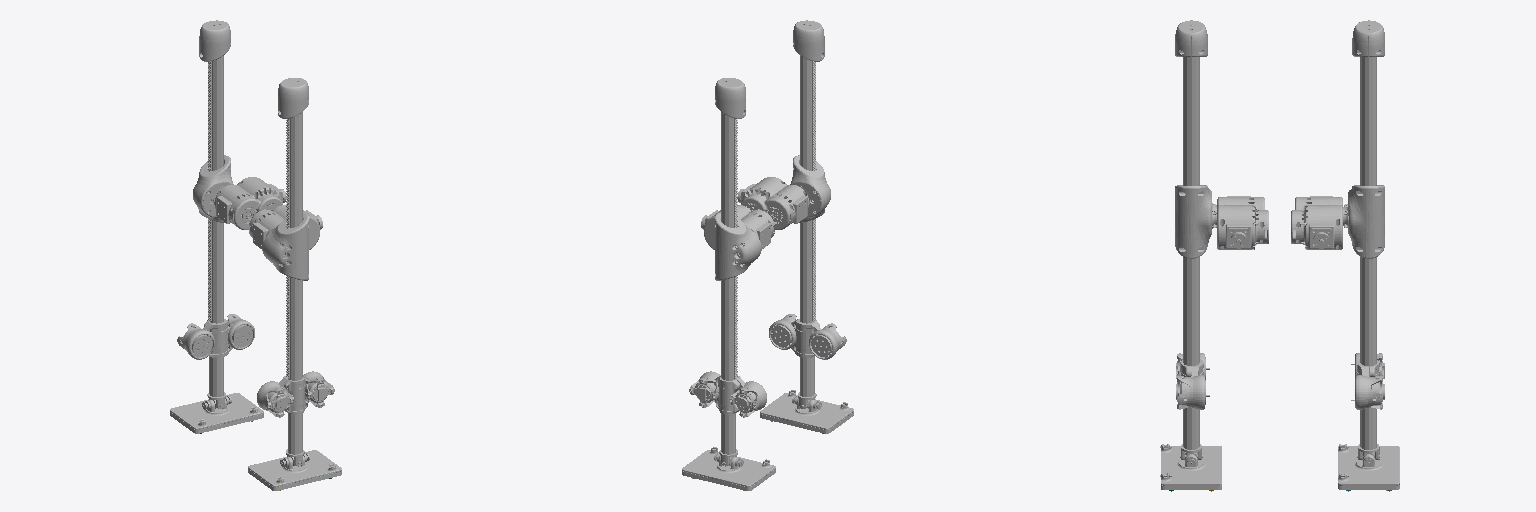
--- Render facts (derived) ---
The picture shows the robot from 3 angles, left to right: view 1: azimuth 30°, elevation 25°; view 2: azimuth 150°, elevation 25°; view 3: azimuth 270°, elevation 25°; orthographic projection.
Model slider_gazebo with 20 links and 19 joints (8 revolute, 2 prismatic, 8 fixed, 1 floating), rooted at world, posed all joints at 0.
Visible links, largest first — view 1: Right_Slide_Foot_Pitch_Link, Left_Slide_Foot_Pitch_Link, Left_Roll_Pitch_Link, Left_Foot, Right_Foot, Right_Pitch_Slide_Link, Left_Pitch_Slide_Link, Right_Roll_Pitch_Link; view 2: Left_Slide_Foot_Pitch_Link, Right_Slide_Foot_Pitch_Link, Right_Roll_Pitch_Link, Left_Foot, Right_Foot, Left_Pitch_Slide_Link, Right_Pitch_Slide_Link, Left_Roll_Pitch_Link; view 3: Right_Slide_Foot_Pitch_Link, Left_Slide_Foot_Pitch_Link, Right_Roll_Pitch_Link, Left_Roll_Pitch_Link, Right_Pitch_Slide_Link, Left_Pitch_Slide_Link, Left_Foot, Right_Foot.
Link boxes in pixels (bbox=[...]): Right_Slide_Foot_Pitch_Link: bbox=[257, 78, 334, 466]; Left_Slide_Foot_Pitch_Link: bbox=[177, 20, 254, 408]; Left_Roll_Pitch_Link: bbox=[214, 177, 286, 229]; Left_Foot: bbox=[170, 393, 263, 433]; Right_Foot: bbox=[248, 450, 341, 490]; Right_Pitch_Slide_Link: bbox=[262, 213, 308, 280]; Left_Pitch_Slide_Link: bbox=[193, 155, 233, 222]; Right_Roll_Pitch_Link: bbox=[249, 205, 322, 249]; Left_Slide_Foot_Pitch_Link: bbox=[689, 78, 766, 466]; Right_Slide_Foot_Pitch_Link: bbox=[769, 20, 846, 408]; Right_Roll_Pitch_Link: bbox=[737, 177, 809, 229]; Left_Foot: bbox=[682, 447, 775, 490]; Right_Foot: bbox=[760, 390, 853, 433]; Left_Pitch_Slide_Link: bbox=[715, 213, 761, 280]; Right_Pitch_Slide_Link: bbox=[790, 155, 830, 222]; Left_Roll_Pitch_Link: bbox=[701, 205, 774, 249]; Right_Slide_Foot_Pitch_Link: bbox=[1175, 20, 1209, 459]; Left_Slide_Foot_Pitch_Link: bbox=[1351, 20, 1384, 459]; Right_Roll_Pitch_Link: bbox=[1217, 196, 1268, 249]; Left_Roll_Pitch_Link: bbox=[1291, 196, 1342, 249]; Right_Pitch_Slide_Link: bbox=[1175, 185, 1216, 258]; Left_Pitch_Slide_Link: bbox=[1343, 185, 1384, 258]; Left_Foot: bbox=[1338, 444, 1399, 489]; Right_Foot: bbox=[1160, 444, 1221, 489].
Bounding box of the posed robot: 0.2587 × 0.5808 × 1.2 m (x, y, z).
10 mesh visuals loaded from 11 distinct referenced files (10 binary STL); not drawn: 1 (reference not matched to a file when rendering).

The robot description file, URDF, robot "slider_gazebo":
<?xml version="1.0" encoding="utf-8"?>
<!-- This URDF was automatically created by SolidWorks to URDF Exporter! Originally created by Stephen Brawner ([email redacted]) 
     Commit Version: 1.5.1-0-g916b5db  Build Version: 1.5.7152.31018
     For more information, please see http://wiki.ros.org/sw_urdf_exporter -->
<robot name="slider_gazebo">
<gazebo>
  <plugin name="gazebo_ros_control" filename="libgazebo_ros_control.so">
    <robotNamespace>time_slider_gazebo</robotNamespace>
    <legacyModeNS>true</legacyModeNS>
  </plugin>
</gazebo>

<gazebo>
  <plugin name='3dplot' filename='libLinkPlot3DPlugin.so'>
      <!-- Update at 50 Hz -->
      <frequency>50</frequency>
      <!-- Upper link plot -->
      <plot>
        <link>time_slider_gazebo::Right_Foot</link>
        <!-- Point 1m in +Z axis in link frame -->
        <pose>0 0 0 0 0 0</pose>
        <material>Gazebo/Red</material>
      </plot>
      <plot>
        <link>time_slider_gazebo::Left_Foot</link>
        <!-- Point 1m in +Z axis in link frame -->
        <pose>0 0 0 0 0 0</pose>
        <material>Gazebo/Red</material>
      </plot>
      <plot>
        <link>time_slider_gazebo::base_link</link>
        <!-- Point 1m in +Z axis in link frame -->
        <pose>0 0 0.68 0 0 0</pose>
        <material>Gazebo/Blue</material>
      </plot>
  </plugin>
</gazebo>

  <link name="world">
  </link>
  <joint name="base_joint" type="floating">
    <origin rpy="0 0 0" xyz="0 0 0"/>
    <parent link="world"/>
    <child link="base_link"/>
  </joint>

  <link
    name="base_link">
    <inertial>
      <origin
        xyz="-0.06588 0.0011664 0.7235"
        rpy="0 0 0" />
      <mass
        value="1.953" />
      <inertia
        ixx="0.34223"
        ixy="-1.452E-10"
        ixz="-1.8823E-04"
        iyy="0.39434"
        iyz="-3.8904E-10"
        izz="0.47413" />
    </inertial>
    <visual>
      <origin
        xyz="0 0 0"
        rpy="0 0 0" />
      <geometry>
        <mesh
          filename="package://time_slider_gazebo/meshes_foot/base_link.STL" />
      </geometry>
      <material
        name="">
        <color
          rgba="0.75294 0.75294 0.75294 1" />
      </material>
    </visual>
    <collision>
      <origin
        xyz="0 0 0"
        rpy="0 0 0" />
      <geometry>
        <mesh
          filename="package://time_slider_gazebo/meshes_foot/base_link.STL" />
      </geometry>
    </collision>
  </link>



  <link
    name="Left_Roll_Pitch_Link">
    <inertial>
      <origin
        xyz="0.10495 -0.020898 0.00014197"
        rpy="0 0 0" />
      <mass
        value="2.3674" />
      <inertia
        ixx="0.016216"
        ixy="-0.0017769"
        ixz="-4.3316E-08"
        iyy="0.029379"
        iyz="1.0776E-06"
        izz="0.036208" />
    </inertial>
    <visual>
      <origin
        xyz="0 0 0"
        rpy="0 0 0" />
      <geometry>
        <mesh
          filename="package://time_slider_gazebo/meshes_foot/Left_Roll_Pitch_Link.STL" />
      </geometry>
      <material
        name="">
        <color
          rgba="0.75294 0.75294 0.75294 1" />
      </material>
    </visual>
    <collision>
      <origin
        xyz="0 0 0"
        rpy="0 0 0" />
      <geometry>
        <mesh
          filename="package://time_slider_gazebo/meshes_foot/Left_Roll_Pitch_Link.STL" />
      </geometry>
    </collision>
  </link>


  <joint
    name="Left_Roll"
    type="revolute">
    <origin
      xyz="-0.0648 0.1 0.69"
      rpy="0 0 0" />
    <limit effort="4000.0" lower="-0.7853" upper="0.7853" velocity="300"/>
    <parent
      link="base_link" />
    <child
      link="Left_Roll_Pitch_Link" />
    <axis
      xyz="1 0 0" />
  </joint>
  <link
    name="Left_Pitch_Slide_Link">
    <inertial>
      <origin
        xyz="0.087199 0.0083996 1.7678E-05"
        rpy="0 0 0" />
      <mass
        value="1.1453" />
      <inertia
        ixx="0.0023497"
        ixy="-4.2122E-05"
        ixz="-5.2647E-08"
        iyy="0.0020378"
        iyz="-6.1071E-07"
        izz="0.0012544" />
    </inertial>
    <visual>
      <origin
        xyz="0 0 0"
        rpy="0 0 0" />
      <geometry>
        <mesh
          filename="package://time_slider_gazebo/meshes_foot/Left_Pitch_Slide_Link.STL" />
      </geometry>
      <material
        name="">
        <color
          rgba="0.75294 0.75294 0.75294 1" />
      </material>
    </visual>
    <collision>
      <origin
        xyz="0 0 0"
        rpy="0 0 0" />
      <geometry>
        <mesh
          filename="package://time_slider_gazebo/meshes_foot/Left_Pitch_Slide_Link.STL" />
      </geometry>
    </collision>
  </link>
  <joint
    name="Left_Pitch"
    type="revolute">
    <origin
      xyz="0.0648 0 0"
      rpy="0 0 1.5708" />
    <limit effort="4000.0" lower="-1.57" upper="1.57" velocity="300"/>
    <parent
      link="Left_Roll_Pitch_Link" />
    <child
      link="Left_Pitch_Slide_Link" />
    <axis
      xyz="1 0 0" />
  </joint>
  <link
    name="Left_Slide_Foot_Pitch_Link">
    <inertial>
      <origin
        xyz="-0.0021556 8.8219E-05 -0.23695"
        rpy="0 0 0" />
      <mass
        value="0.966" />
      <inertia
        ixx="0.01191"
        ixy="-4.5378E-07"
        ixz="-4.6436E-05"
        iyy="0.01208"
        iyz="1.1237E-06"
        izz="0.00099" />
    </inertial>
    <visual>
      <origin
        xyz="0 0 0"
        rpy="0 0 0" />
      <geometry>
        <mesh
          filename="package://time_slider_gazebo/meshes_foot/Left_Slide_Foot_Pitch_Link.STL" />
      </geometry>
      <material
        name="">
        <color
          rgba="0.75294 0.75294 0.75294 1" />
      </material>
    </visual>
    <collision>
      <origin
        xyz="0 0 0"
        rpy="0 0 0" />
      <geometry>
        <mesh
          filename="package://time_slider_gazebo/meshes_foot/Left_Slide_Foot_Pitch_Link.STL" />
      </geometry>
    </collision>
  </link>
  <joint
    name="Left_Slide"
    type="prismatic">
    <origin
      xyz="0.1149 0 0"
      rpy="0 0 -1.5708" />
    <limit effort="4000.0" lower="-0.4" upper="0.4" velocity="300"/>
    <parent
      link="Left_Pitch_Slide_Link" />
    <child
      link="Left_Slide_Foot_Pitch_Link" />
    <axis
      xyz="0 0 1" />
  </joint>
  <link
    name="Left_Foot_Pitch_Foot_Roll_Link">
    <inertial>
      <origin
        xyz="2.2195E-08 1.131E-08 -1.2753E-08"
        rpy="0 0 0" />
      <mass
        value="0.014128" />
      <inertia
        ixx="1.6051E-06"
        ixy="6.2156E-13"
        ixz="2.5352E-13"
        iyy="1.5944E-06"
        iyz="4.249E-13"
        izz="1.5117E-06" />
    </inertial>
    <visual>
      <origin
        xyz="0 0 0"
        rpy="0 0 0" />
      <geometry>
        <mesh
          filename="package://time_slider_gazebo/meshes_foot/Left_Foot_Pitch_Foot_Roll_Link.STL" />
      </geometry>
      <material
        name="">
        <color
          rgba="0.75294 0.75294 0.75294 1" />
      </material>
    </visual>
    <collision>
      <origin
        xyz="0 0 0"
        rpy="0 0 0" />
      <geometry>
        <mesh
          filename="package://time_slider_gazebo/meshes_foot/Left_Foot_Pitch_Foot_Roll_Link.STL" />
      </geometry>
    </collision>
  </link>
  <joint
    name="Left_Foot_Pitch"
    type="revolute">
    <origin
      xyz="0 0 -0.6415"
      rpy="0 0 1.5708" />
    <limit effort="4000.0" lower="-0.7853" upper="0.7853" velocity="300"/>
    <parent
      link="Left_Slide_Foot_Pitch_Link" />
    <child
      link="Left_Foot_Pitch_Foot_Roll_Link" />
    <axis
      xyz="1 0 0" />
  </joint>
  <link
    name="Left_Foot">
    <inertial>
      <origin
        xyz="1.9458E-07 -0.0010335 -0.028465"
        rpy="0 0 0" />
      <mass
        value="0.46537" />
      <inertia
        ixx="0.0065169"
        ixy="5.2336E-09"
        ixz="-5.453E-10"
        iyy="0.013726"
        iyz="2.5072E-06"
        izz="0.020038" />
    </inertial>
    <visual>
      <origin
        xyz="0 0 0"
        rpy="0 0 0" />
      <geometry>
        <mesh
          filename="package://time_slider_gazebo/meshes_foot/Left_Foot.STL" />
      </geometry>
      <material
        name="">
        <color
          rgba="0.75294 0.75294 0.75294 1" />
      </material>
    </visual>
    <collision>
      <origin
        xyz="0 0 0"
        rpy="0 0 0" />
      <geometry>
        <mesh
          filename="package://time_slider_gazebo/meshes_foot/Left_Foot.STL" />
      </geometry>
    </collision>
  </link>
  <joint
    name="Left_Foot_Roll"
    type="revolute">
    <limit effort="4000.0" lower="-0.7853" upper="0.7853" velocity="300"/>
    <origin
      xyz="0 0 0"
      rpy="0 0 -1.5708" />
    <parent
      link="Left_Foot_Pitch_Foot_Roll_Link" />
    <child
      link="Left_Foot" />
    <axis
      xyz="1 0 0" />
  </joint>
  <link
    name="Left_Foot_A">
    <inertial>
      <origin
        xyz="0.0 0.0 0.0"
        rpy="0 0 0" />
      <mass
        value="1E-06" />
      <inertia
        ixx="1E-06"
        ixy="0"
        ixz="0"
        iyy="1E-06"
        iyz="0"
        izz="1E-06" />
    </inertial>
    <visual>
      <origin
        xyz="0.0 0.0 0.0"
        rpy="0 0 0" />
      <geometry>
        <sphere radius="0.01"/>
      </geometry>
    </visual>
    <collision>
      <origin
        xyz="0.0 0.0 0.0"
        rpy="0 0 0" />
      <geometry>
        <sphere radius="0.01"/>
      </geometry>
    </collision>
  </link>
  <joint
    name="Left_A"
    type="fixed">
    <origin
      xyz="0.08225 0.04905 -0.045"
      rpy="0 0 0" />
    <parent
      link="Left_Foot" />
    <child
      link="Left_Foot_A" />
    <axis
      xyz="0 0 0" />
  </joint>

  <link
    name="Left_Foot_B">
    <inertial>
      <origin
        xyz="0.0 0.0 0.0"
        rpy="0 0 0" />
      <mass
        value="1E-06" />
      <inertia
        ixx="1E-06"
        ixy="0"
        ixz="0"
        iyy="1E-06"
        iyz="0"
        izz="1E-06" />
    </inertial>
    <visual>
      <origin
        xyz="0.0 0.0 0.0"
        rpy="0 0 0" />
      <geometry>
        <sphere radius="0.01"/>
      </geometry>
    </visual>
    <collision>
      <origin
        xyz="0.0 0.0 0.0"
        rpy="0 0 0" />
      <geometry>
        <sphere radius="0.01"/>
      </geometry>
    </collision>
  </link>
  <joint
    name="Left_B"
    type="fixed">
    <origin
      xyz="-0.08225 0.04905 -0.045"
      rpy="0 0 0" />
    <parent
      link="Left_Foot" />
    <child
      link="Left_Foot_B" />
    <axis
      xyz="0 0 0" />
  </joint>

    <link
    name="Left_Foot_C">
    <inertial>
      <origin
        xyz="0.0 0.0 0.0"
        rpy="0 0 0" />
      <mass
        value="1E-06" />
      <inertia
        ixx="1E-06"
        ixy="0"
        ixz="0"
        iyy="1E-06"
        iyz="0"
        izz="1E-06" />
    </inertial>
    <visual>
      <origin
        xyz="0.0 0.0 0.0"
        rpy="0 0 0" />
      <geometry>
        <sphere radius="0.01"/>
      </geometry>
    </visual>
    <collision>
      <origin
        xyz="0.0 0.0 0.0"
        rpy="0 0 0" />
      <geometry>
        <sphere radius="0.01"/>
      </geometry>
    </collision>
  </link>
  <joint
    name="Left_C"
    type="fixed">
    <origin
      xyz="0.08225 -0.04905 -0.045"
      rpy="0 0 0" />
    <parent
      link="Left_Foot" />
    <child
      link="Left_Foot_C" />
    <axis
      xyz="0 0 0" />
  </joint>

    <link
    name="Left_Foot_D">
    <inertial>
      <origin
        xyz="0.0 0.0 0.0"
        rpy="0 0 0" />
      <mass
        value="1E-06" />
      <inertia
        ixx="1E-06"
        ixy="0"
        ixz="0"
        iyy="1E-06"
        iyz="0"
        izz="1E-06" />
    </inertial>
    <visual>
      <origin
        xyz="0.0 0.0 0.0"
        rpy="0 0 0" />
      <geometry>
        <sphere radius="0.01"/>
      </geometry>
    </visual>
    <collision>
      <origin
        xyz="0.0 0.0 0.0"
        rpy="0 0 0" />
      <geometry>
        <sphere radius="0.01"/>
      </geometry>
    </collision>
  </link>
  <joint
    name="Left_D"
    type="fixed">
    <origin
      xyz="-0.08225 -0.04905 -0.045"
      rpy="0 0 0" />
    <parent
      link="Left_Foot" />
    <child
      link="Left_Foot_D" />
    <axis
      xyz="0 0 0" />
  </joint>

  <link
    name="Right_Roll_Pitch_Link">
    <inertial>
      <origin
        xyz="0.10495 0.020898 -0.00014197"
        rpy="0 0 0" />
      <mass
        value="2.3674" />
      <inertia
        ixx="0.016216"
        ixy="0.0017769"
        ixz="4.3316E-08"
        iyy="0.029379"
        iyz="1.0776E-06"
        izz="0.036208" />
    </inertial>
    <visual>
      <origin
        xyz="0 0 0"
        rpy="0 0 0" />
      <geometry>
        <mesh
          filename="package://time_slider_gazebo/meshes_foot/Right_Roll_Pitch_Link.STL" />
      </geometry>
      <material
        name="">
        <color
          rgba="0.75294 0.75294 0.75294 1" />
      </material>
    </visual>
    <collision>
      <origin
        xyz="0 0 0"
        rpy="0 0 0" />
      <geometry>
        <mesh
          filename="package://time_slider_gazebo/meshes_foot/Right_Roll_Pitch_Link.STL" />
      </geometry>
    </collision>
  </link>
  <joint
    name="Right_Roll"
    type="revolute">
    <origin
      xyz="-0.0648 -0.1 0.69"
      rpy="0 0 0" />
    <limit effort="4000.0" lower="-0.7853" upper="0.7853" velocity="300"/>
    <parent
      link="base_link" />
    <child
      link="Right_Roll_Pitch_Link" />
    <axis
      xyz="1 0 0" />
  </joint>
  <link
    name="Right_Pitch_Slide_Link">
    <inertial>
      <origin
        xyz="0.087199 -0.0083996 -1.7678E-05"
        rpy="0 0 0" />
      <mass
        value="1.1453" />
      <inertia
        ixx="0.0023497"
        ixy="-4.2122E-05"
        ixz="-5.2647E-08"
        iyy="0.0020378"
        iyz="-6.1071E-07"
        izz="0.0012544" />
    </inertial>
    <visual>
      <origin
        xyz="0 0 0"
        rpy="0 0 0" />
      <geometry>
        <mesh
          filename="package://time_slider_gazebo/meshes_foot/Right_Pitch_Slide_Link.STL" />
      </geometry>
      <material
        name="">
        <color
          rgba="0.75294 0.75294 0.75294 1" />
      </material>
    </visual>
    <collision>
      <origin
        xyz="0 0 0"
        rpy="0 0 0" />
      <geometry>
        <mesh
          filename="package://time_slider_gazebo/meshes_foot/Right_Pitch_Slide_Link.STL" />
      </geometry>
    </collision>
  </link>
  <joint
    name="Right_Pitch"
    type="revolute">
    <origin
      xyz="0.0648 0 0"
      rpy="0 0 -1.5708" />
    <limit effort="4000.0" lower="-1.57" upper="1.57" velocity="300"/>
    <parent
      link="Right_Roll_Pitch_Link" />
    <child
      link="Right_Pitch_Slide_Link" />
    <axis
      xyz="-1 0 0" />
  </joint>
  <link
    name="Right_Slide_Foot_Pitch_Link">
    <inertial>
      <origin
        xyz="-0.0020391 -8.6739E-05 -0.23695"
        rpy="0 0 0" />
      <mass
        value="0.966" />
      <inertia
        ixx="0.01191"
        ixy="-4.5378E-07"
        ixz="-4.6436E-05"
        iyy="0.01204"
        iyz="1.1237E-06"
        izz="0.00099" />
    </inertial>
    <visual>
      <origin
        xyz="0 0 0"
        rpy="0 0 0" />
      <geometry>
        <mesh
          filename="package://time_slider_gazebo/meshes_foot/Right_Slide_Foot_Pitch_Link.STL" />
      </geometry>
      <material
        name="">
        <color
          rgba="0.75294 0.75294 0.75294 1" />
      </material>
    </visual>
    <collision>
      <origin
        xyz="0 0 0"
        rpy="0 0 0" />
      <geometry>
        <mesh
          filename="package://time_slider_gazebo/meshes_foot/Right_Slide_Foot_Pitch_Link.STL" />
      </geometry>
    </collision>
  </link>
  <joint
    name="Right_Slide"
    type="prismatic">
    <origin
      xyz="0.1149 0 0"
      rpy="0 0 1.5708" />
    <limit effort="4000.0" lower="-0.4" upper="0.4" velocity="300"/>
    <parent
      link="Right_Pitch_Slide_Link" />
    <child
      link="Right_Slide_Foot_Pitch_Link" />
    <axis
      xyz="0 0 1" />

  </joint>
  <link
    name="Right_Foot_Pitch_Foot_Roll_Link">
    <inertial>
      <origin
        xyz="2.2195E-08 1.131E-08 -1.2753E-08"
        rpy="0 0 0" />
      <mass
        value="0.014128" />
      <inertia
        ixx="1.6051E-06"
        ixy="6.2156E-13"
        ixz="2.5352E-13"
        iyy="1.5944E-06"
        iyz="4.249E-13"
        izz="1.5117E-06" />
    </inertial>
    <visual>
      <origin
        xyz="0 0 0"
        rpy="0 0 0" />
      <geometry>
        <mesh
          filename="package://time_slider_gazebo/meshes_foot/Right_Foot_Pitch_Foot_Roll_Link.STL" />
      </geometry>
      <material
        name="">
        <color
          rgba="0.75294 0.75294 0.75294 1" />
      </material>
    </visual>
    <collision>
      <origin
        xyz="0 0 0"
        rpy="0 0 0" />
      <geometry>
        <mesh
          filename="package://time_slider_gazebo/meshes_foot/Right_Foot_Pitch_Foot_Roll_Link.STL" />
      </geometry>
    </collision>
  </link>
  <joint
    name="Right_Foot_Pitch"
    type="revolute">
    <origin
      xyz="0 0 -0.6415"
      rpy="0 0 1.5708" />
    <limit effort="4000.0" lower="-0.7853" upper="0.7853" velocity="300"/>
    <parent
      link="Right_Slide_Foot_Pitch_Link" />
    <child
      link="Right_Foot_Pitch_Foot_Roll_Link" />
    <axis
      xyz="1 0 0" />
  </joint>
  <link
    name="Right_Foot">
    <inertial>
      <origin
        xyz="1.9458E-07 -0.0010335 -0.028465"
        rpy="0 0 0" />
      <mass
        value="0.46537" />
      <inertia
        ixx="0.0065169"
        ixy="5.2336E-09"
        ixz="-5.453E-10"
        iyy="0.013726"
        iyz="2.5072E-06"
        izz="0.020038" />
    </inertial>
    <visual>
      <origin
        xyz="0 0 0"
        rpy="0 0 0" />
      <geometry>
        <mesh
          filename="package://time_slider_gazebo/meshes_foot/Right_Foot.STL" />
      </geometry>
      <material
        name="">
        <color
          rgba="0.75294 0.75294 0.75294 1" />
      </material>
    </visual>
    <collision>
      <origin
        xyz="0 0 0"
        rpy="0 0 0" />
      <geometry>
        <mesh
          filename="package://time_slider_gazebo/meshes_foot/Right_Foot.STL" />
      </geometry>
    </collision>
  </link>
  <joint
    name="Right_Foot_Roll"
    type="revolute">
    <origin
      xyz="0 0 0"
      rpy="0 0 -1.5708" />
    <limit effort="4000.0" lower="-0.7853" upper="0.7853" velocity="300"/>
    <parent
      link="Right_Foot_Pitch_Foot_Roll_Link" />
    <child
      link="Right_Foot" />
    <axis
      xyz="1 0 0" />
  </joint>

  <link
    name="Right_Foot_A">
    <inertial>
      <origin
        xyz="0.0 0.0 0.0"
        rpy="0 0 0" />
      <mass
        value="1E-06" />
      <inertia
        ixx="1E-06"
        ixy="0"
        ixz="0"
        iyy="1E-06"
        iyz="0"
        izz="1E-06" />
    </inertial>
    <visual>
      <origin
        xyz="0.0 0.0 0.0"
        rpy="0 0 0" />
      <geometry>
        <sphere radius="0.01"/>
      </geometry>
    </visual>
    <collision>
      <origin
        xyz="0.0 0.0 0.0"
        rpy="0 0 0" />
      <geometry>
        <sphere radius="0.01"/>
      </geometry>
    </collision>
  </link>
  <joint
    name="Right_A"
    type="fixed">
    <origin
      xyz="0.08225 0.04905 -0.045"
      rpy="0 0 0" />
    <parent
      link="Right_Foot" />
    <child
      link="Right_Foot_A" />
    <axis
      xyz="0 0 0" />
  </joint>

  <link
    name="Right_Foot_B">
    <inertial>
      <origin
        xyz="0.0 0.0 0.0"
        rpy="0 0 0" />
      <mass
        value="1E-06" />
      <inertia
        ixx="1E-06"
        ixy="0"
        ixz="0"
        iyy="1E-06"
        iyz="0"
        izz="1E-06" />
    </inertial>
    <visual>
      <origin
        xyz="0.0 0.0 0.0"
        rpy="0 0 0" />
      <geometry>
        <sphere radius="0.01"/>
      </geometry>
    </visual>
    <collision>
      <origin
        xyz="0.0 0.0 0.0"
        rpy="0 0 0" />
      <geometry>
        <sphere radius="0.01"/>
      </geometry>
    </collision>
  </link>
  <joint
    name="Right_B"
    type="fixed">
    <origin
      xyz="-0.08225 0.04905 -0.045"
      rpy="0 0 0" />
    <parent
      link="Right_Foot" />
    <child
      link="Right_Foot_B" />
    <axis
      xyz="0 0 0" />
  </joint>

    <link
    name="Right_Foot_C">
    <inertial>
      <origin
        xyz="0.0 0.0 0.0"
        rpy="0 0 0" />
      <mass
        value="1E-06" />
      <inertia
        ixx="1E-06"
        ixy="0"
        ixz="0"
        iyy="1E-06"
        iyz="0"
        izz="1E-06" />
    </inertial>
    <visual>
      <origin
        xyz="0.0 0.0 0.0"
        rpy="0 0 0" />
      <geometry>
        <sphere radius="0.01"/>
      </geometry>
    </visual>
    <collision>
      <origin
        xyz="0.0 0.0 0.0"
        rpy="0 0 0" />
      <geometry>
        <sphere radius="0.01"/>
      </geometry>
    </collision>
  </link>
  <joint
    name="Right_C"
    type="fixed">
    <origin
      xyz="0.08225 -0.04905 -0.045"
      rpy="0 0 0" />
    <parent
      link="Right_Foot" />
    <child
      link="Right_Foot_C" />
    <axis
      xyz="0 0 0" />
  </joint>

    <link
    name="Right_Foot_D">
    <inertial>
      <origin
        xyz="0.0 0.0 0.0"
        rpy="0 0 0" />
      <mass
        value="1E-06" />
      <inertia
        ixx="1E-06"
        ixy="0"
        ixz="0"
        iyy="1E-06"
        iyz="0"
        izz="1E-06" />
    </inertial>
    <visual>
      <origin
        xyz="0.0 0.0 0.0"
        rpy="0 0 0" />
      <geometry>
        <sphere radius="0.01"/>
      </geometry>
    </visual>
    <collision>
      <origin
        xyz="0.0 0.0 0.0"
        rpy="0 0 0" />
      <geometry>
        <sphere radius="0.01"/>
      </geometry>
    </collision>
  </link>
  <joint
    name="Right_D"
    type="fixed">
    <origin
      xyz="-0.08225 -0.04905 -0.045"
      rpy="0 0 0" />
    <parent
      link="Right_Foot" />
    <child
      link="Right_Foot_D" />
    <axis
      xyz="0 0 0" />
  </joint>

 <gazebo reference="Right_Foot_A">
     <collision>
      <surface>
        <friction>
          <ode>
            <mu>1000000000</mu>
            <mu2>1000000000</mu2>
          </ode>
          <torsional>
            <coefficient>10.0</coefficient>
            <surface_radius>0.5</surface_radius>
            <use_patch_radius>false</use_patch_radius>
          </torsional>
        </friction>
      </surface>
    </collision>
  </gazebo>

 <gazebo reference="Right_Foot_B">
     <collision>
      <surface>
        <friction>
          <ode>
            <mu>1000000000</mu>
            <mu2>1000000000</mu2>
          </ode>
          <torsional>
            <coefficient>10.0</coefficient>
            <surface_radius>0.5</surface_radius>
            <use_patch_radius>false</use_patch_radius>
          </torsional>
        </friction>
      </surface>
    </collision>
  </gazebo>

 <gazebo reference="Right_Foot_C">
     <collision>
      <surface>
        <friction>
          <ode>
            <mu>1000000000</mu>
            <mu2>1000000000</mu2>
          </ode>
          <torsional>
            <coefficient>10.0</coefficient>
            <surface_radius>0.5</surface_radius>
            <use_patch_radius>false</use_patch_radius>
          </torsional>
        </friction>
      </surface>
    </collision>
  </gazebo>

 <gazebo reference="Right_Foot_D">
     <collision>
      <surface>
        <friction>
          <ode>
            <mu>1000000000</mu>
            <mu2>1000000000</mu2>
          </ode>
          <torsional>
            <coefficient>10.0</coefficient>
            <surface_radius>0.5</surface_radius>
            <use_patch_radius>false</use_patch_radius>
          </torsional>
        </friction>
      </surface>
    </collision>
  </gazebo>

 <gazebo reference="Left_Foot_A">
     <collision>
      <surface>
        <friction>
          <ode>
            <mu>1000000000</mu>
            <mu2>1000000000</mu2>
          </ode>
          <torsional>
            <coefficient>10.0</coefficient>
            <surface_radius>0.5</surface_radius>
            <use_patch_radius>false</use_patch_radius>
          </torsional>
        </friction>
      </surface>
    </collision>
  </gazebo>

 <gazebo reference="Left_Foot_B">
     <collision>
      <surface>
        <friction>
          <ode>
            <mu>1000000000</mu>
            <mu2>1000000000</mu2>
          </ode>
          <torsional>
            <coefficient>10.0</coefficient>
            <surface_radius>0.5</surface_radius>
            <use_patch_radius>false</use_patch_radius>
          </torsional>
        </friction>
      </surface>
    </collision>
  </gazebo>

 <gazebo reference="Left_Foot_C">
     <collision>
      <surface>
        <friction>
          <ode>
            <mu>1000000000</mu>
            <mu2>1000000000</mu2>
          </ode>
          <torsional>
            <coefficient>10.0</coefficient>
            <surface_radius>0.5</surface_radius>
            <use_patch_radius>false</use_patch_radius>
          </torsional>
        </friction>
      </surface>
    </collision>
  </gazebo>

 <gazebo reference="Left_Foot_D">
     <collision>
      <surface>
        <friction>
          <ode>
            <mu>1000000000</mu>
            <mu2>1000000000</mu2>
          </ode>
          <torsional>
            <coefficient>10.0</coefficient>
            <surface_radius>0.5</surface_radius>
            <use_patch_radius>false</use_patch_radius>
          </torsional>
        </friction>
      </surface>
    </collision>
  </gazebo>


  <gazebo reference="Left_Foot_A">
    <kp value = "8.0e+4"/>
    <kd value = "8.0e+2"/>
  </gazebo>

  <gazebo reference="Right_Foot_A">
    <kp value = "8.0e+4"/>
    <kd value = "8.0e+2"/>
  </gazebo>

  <gazebo reference="Left_Foot_B">
    <kp value = "8.0e+4"/>
    <kd value = "8.0e+2"/>
  </gazebo>

  <gazebo reference="Right_Foot_B">
    <kp value = "8.0e+4"/>
    <kd value = "8.0e+2"/>
  </gazebo>

  <gazebo reference="Left_Foot_C">
    <kp value = "8.0e+4"/>
    <kd value = "8.0e+2"/>
  </gazebo>

  <gazebo reference="Right_Foot_C">
    <kp value = "8.0e+4"/>
    <kd value = "8.0e+2"/>
  </gazebo>

  <gazebo reference="Left_Foot_D">
    <kp value = "8.0e+4"/>
    <kd value = "8.0e+2"/>
  </gazebo>

  <gazebo reference="Right_Foot_D">
    <kp value = "8.0e+4"/>
    <kd value = "8.0e+2"/>
  </gazebo>

  <gazebo reference="Left_Foot">
    <kp value = "8.0e+4"/>
    <kd value = "8.0e+2"/>
  </gazebo>

  <gazebo reference="Right_Foot">
    <kp value = "8.0e+4"/>
    <kd value = "8.0e+2"/>
  </gazebo>
<!-- Transmissions used for ros_control -->
  <transmission name="tran1">
    <type>transmission_interface/SimpleTransmission</type>
    <joint name="Left_Pitch">
      <hardwareInterface>hardware_interface/EffortJointInterface</hardwareInterface>
    </joint>
    <actuator name="motor1">
      <hardwareInterface>hardware_interface/EffortJointInterface</hardwareInterface>
      <mechanicalReduction>1</mechanicalReduction>
    </actuator>
  </transmission>

  <transmission name="tran2">
    <type>transmission_interface/SimpleTransmission</type>
    <joint name="Left_Roll">
      <hardwareInterface>hardware_interface/EffortJointInterface</hardwareInterface>
    </joint>
    <actuator name="motor2">
      <hardwareInterface>hardware_interface/EffortJointInterface</hardwareInterface>
      <mechanicalReduction>1</mechanicalReduction>
    </actuator>
  </transmission>

  <transmission name="tran3">
    <type>transmission_interface/SimpleTransmission</type>
    <joint name="Left_Slide">
      <hardwareInterface>hardware_interface/EffortJointInterface</hardwareInterface>
    </joint>
    <actuator name="motor3">
      <hardwareInterface>hardware_interface/EffortJointInterface</hardwareInterface>
      <mechanicalReduction>1</mechanicalReduction>
    </actuator>
  </transmission>

  <transmission name="tran4">
    <type>transmission_interface/SimpleTransmission</type>
    <joint name="Right_Pitch">
      <hardwareInterface>hardware_interface/EffortJointInterface</hardwareInterface>
    </joint>
    <actuator name="motor4">
      <hardwareInterface>hardware_interface/EffortJointInterface</hardwareInterface>
      <mechanicalReduction>1</mechanicalReduction>
    </actuator>
  </transmission>

  <transmission name="tran5">
    <type>transmission_interface/SimpleTransmission</type>
    <joint name="Right_Roll">
      <hardwareInterface>hardware_interface/EffortJointInterface</hardwareInterface>
    </joint>
    <actuator name="motor5">
      <hardwareInterface>hardware_interface/EffortJointInterface</hardwareInterface>
      <mechanicalReduction>1</mechanicalReduction>
    </actuator>
  </transmission>

  <transmission name="tran6">
    <type>transmission_interface/SimpleTransmission</type>
    <joint name="Right_Slide">
      <hardwareInterface>hardware_interface/EffortJointInterface</hardwareInterface>
    </joint>
    <actuator name="motor6">
      <hardwareInterface>hardware_interface/EffortJointInterface</hardwareInterface>
      <mechanicalReduction>1</mechanicalReduction>
    </actuator>
  </transmission>

  <transmission name="tran7">
    <type>transmission_interface/SimpleTransmission</type>
    <joint name="Left_Foot_Pitch">
      <hardwareInterface>hardware_interface/EffortJointInterface</hardwareInterface>
    </joint>
    <actuator name="motor7">
      <hardwareInterface>hardware_interface/EffortJointInterface</hardwareInterface>
      <mechanicalReduction>1</mechanicalReduction>
    </actuator>
  </transmission>

  <transmission name="tran8">
    <type>transmission_interface/SimpleTransmission</type>
    <joint name="Left_Foot_Roll">
      <hardwareInterface>hardware_interface/EffortJointInterface</hardwareInterface>
    </joint>
    <actuator name="motor8">
      <hardwareInterface>hardware_interface/EffortJointInterface</hardwareInterface>
      <mechanicalReduction>1</mechanicalReduction>
    </actuator>
  </transmission>

  <transmission name="tran9">
    <type>transmission_interface/SimpleTransmission</type>
    <joint name="Right_Foot_Pitch">
      <hardwareInterface>hardware_interface/EffortJointInterface</hardwareInterface>
    </joint>
    <actuator name="motor9">
      <hardwareInterface>hardware_interface/EffortJointInterface</hardwareInterface>
      <mechanicalReduction>1</mechanicalReduction>
    </actuator>
  </transmission>

  <transmission name="tran10">
    <type>transmission_interface/SimpleTransmission</type>
    <joint name="Right_Foot_Roll">
      <hardwareInterface>hardware_interface/EffortJointInterface</hardwareInterface>
    </joint>
    <actuator name="motor10">
      <hardwareInterface>hardware_interface/EffortJointInterface</hardwareInterface>
      <mechanicalReduction>1</mechanicalReduction>
    </actuator>
  </transmission>


</robot>
